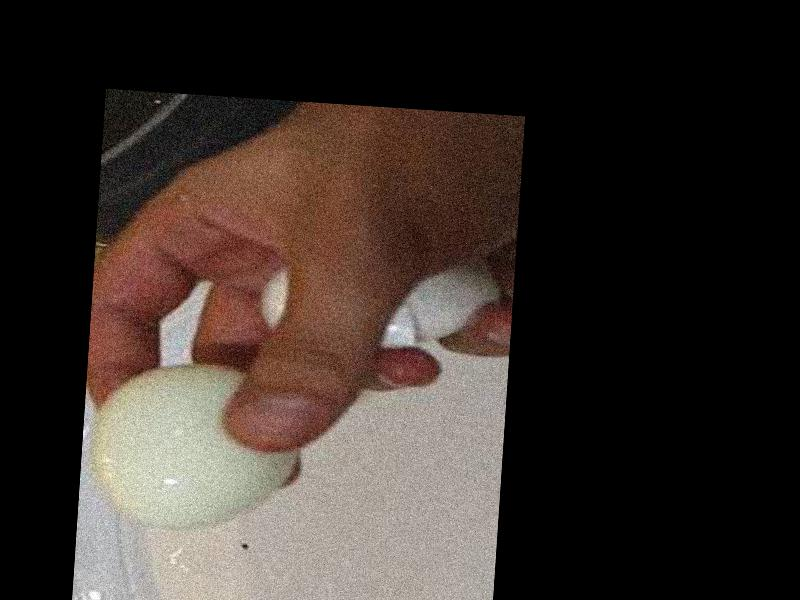Eggs: (80, 356, 306, 532)
